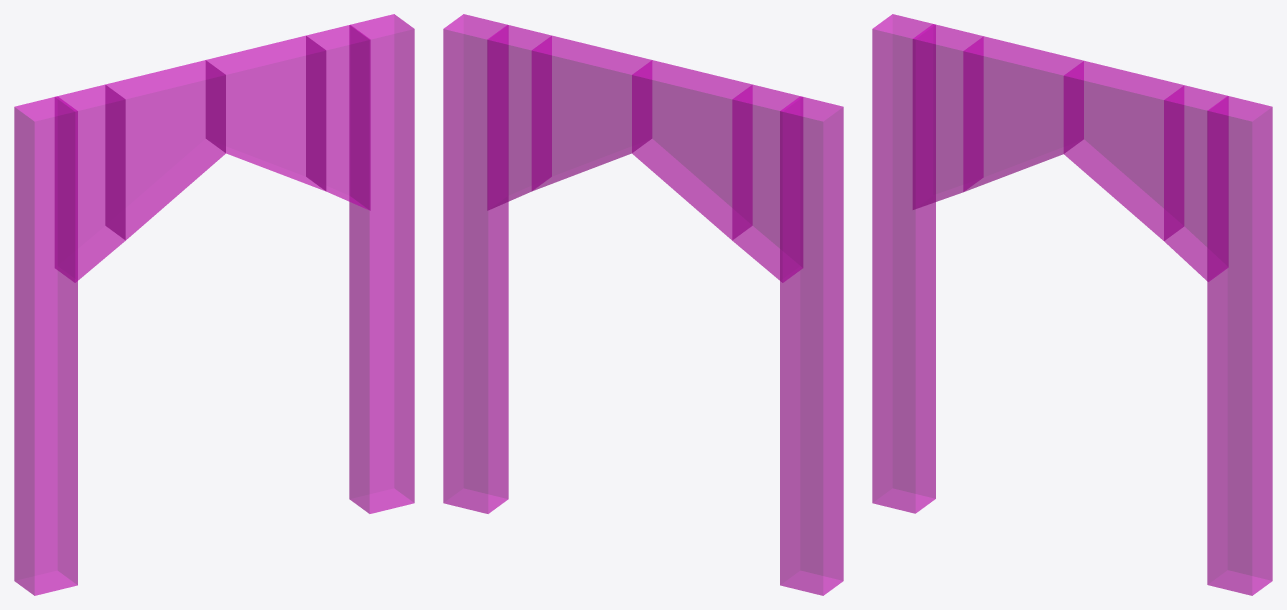
Rendered from SM_Bld_Wall_Door_Double_02_Collision.fbx.
3 renders of one model, left to right at view 1: azimuth 30°, elevation 25°; view 2: azimuth 150°, elevation 25°; view 3: azimuth 330°, elevation 25°, orthographic.
Visible parts, largest first — view 1: SM_Bld_Wall_Door_Double_02_Collision; view 2: SM_Bld_Wall_Door_Double_02_Collision; view 3: SM_Bld_Wall_Door_Double_02_Collision.
Boxes of the visible parts, left/top/right/bottom form: SM_Bld_Wall_Door_Double_02_Collision: left=14, top=14, right=414, bottom=595; SM_Bld_Wall_Door_Double_02_Collision: left=443, top=14, right=843, bottom=595; SM_Bld_Wall_Door_Double_02_Collision: left=872, top=14, right=1272, bottom=595.
Size of the model in its own units: 254 by 303 by 23.61.
